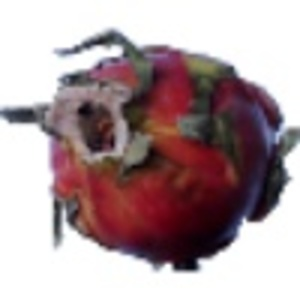pitaia: (1, 28, 300, 273)
